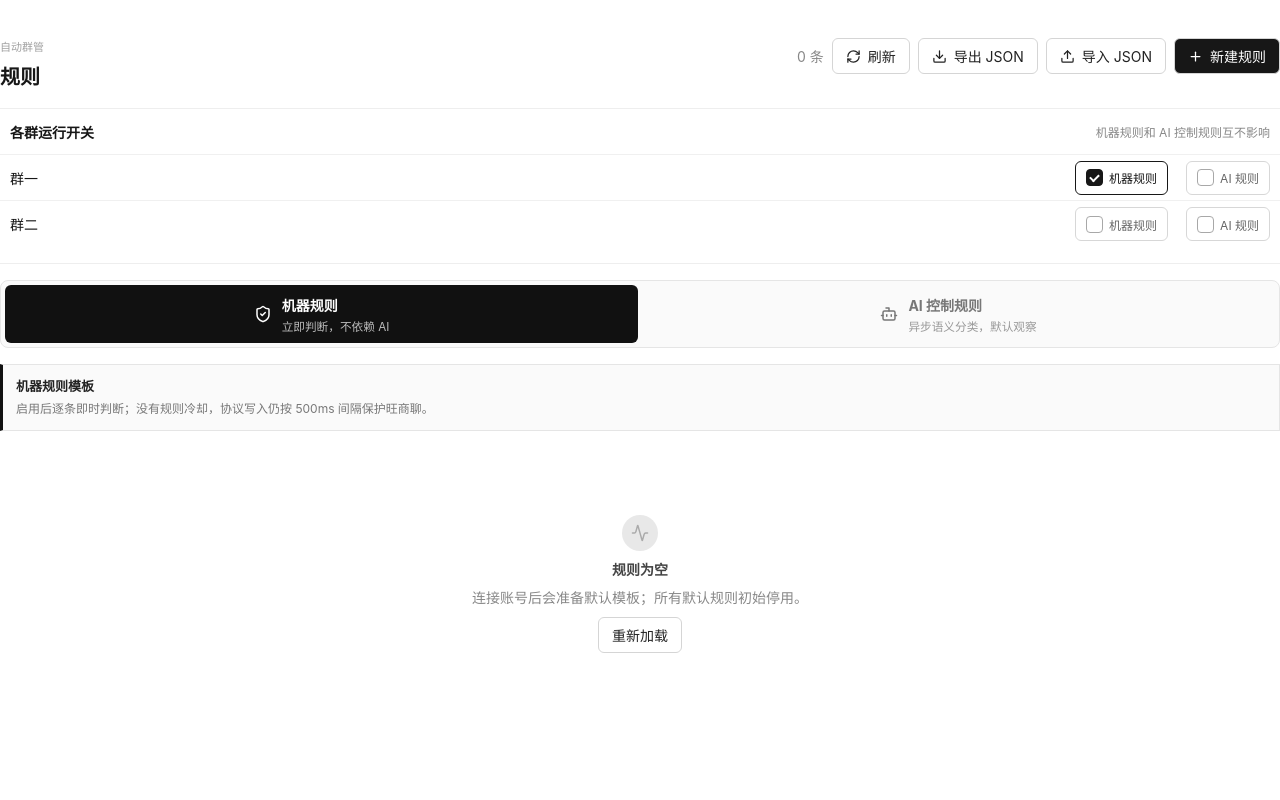
Scenario: RulesPage validation › lists members for a global rule with a blank search and settles loading
Expected: the text "规则为空" is shown, left=612, top=559, right=668, bottom=579
Click the button "新建规则". click: x=1227, y=56
box: left=1174, top=38, right=1279, bottom=74
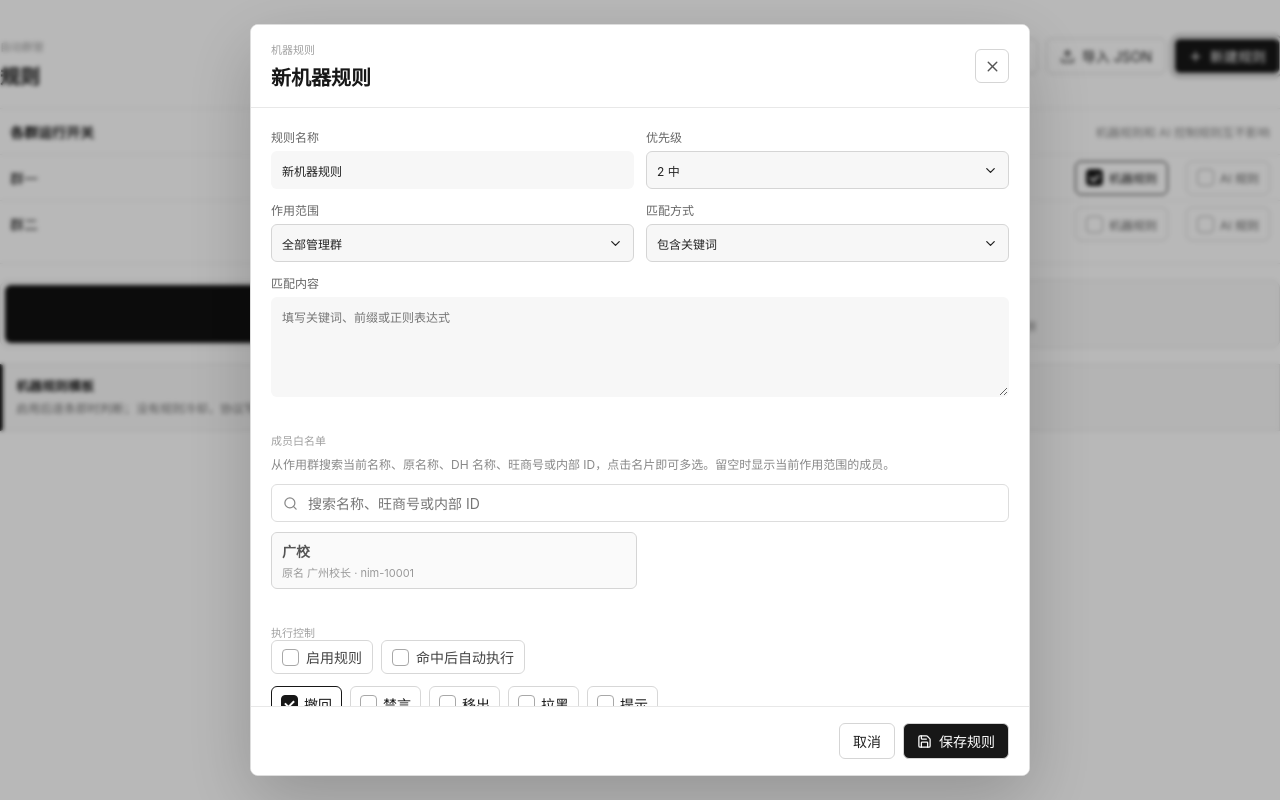
Result: the button "广校 原名 广州校长 · nim-10001" is shown at left=271, top=532, right=637, bottom=589
